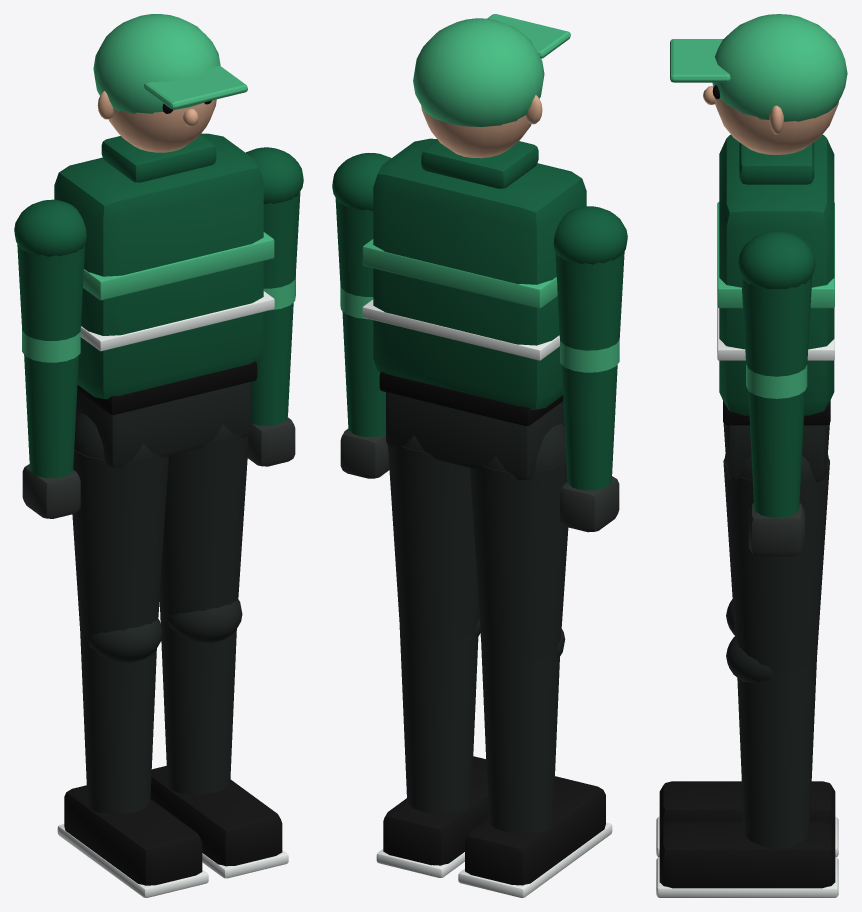
File: mechanic.glb
3 renders of one model, left to right at view 1: azimuth 30°, elevation 25°; view 2: azimuth 150°, elevation 25°; view 3: azimuth 270°, elevation 25°, orthographic. The views are drawn at different scales.
Parts seen in each view (by area): view 1: torso, legL, legR, armL, head, armR; view 2: torso, legL, legR, armL, head, armR; view 3: legR, torso, armR, head, legL.
Part boxes in pixels (x1,y1,x2,y2): torso: (54, 133, 274, 468); legL: (57, 413, 208, 897); legR: (150, 424, 288, 878); armL: (14, 199, 86, 518); head: (93, 14, 247, 152); armR: (246, 147, 303, 466); torso: (362, 138, 586, 480); legL: (458, 424, 612, 897); legR: (376, 435, 488, 877); armL: (553, 206, 627, 532); head: (413, 14, 570, 158); armR: (332, 153, 391, 478); legR: (656, 447, 838, 897); torso: (717, 134, 834, 481); armR: (738, 231, 815, 556); head: (670, 14, 847, 154); legL: (656, 423, 838, 856).
Size of the model in its own units: 0.665 by 1.86 by 0.382.
